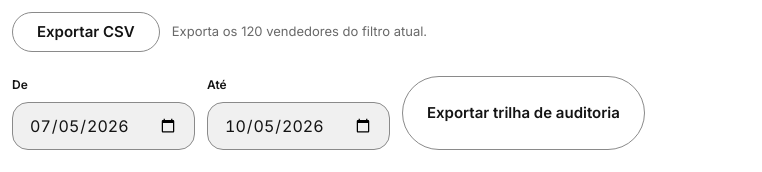
ExportButtons › a failed export: export.error inline, without the period hint
Click the button "Exportar CSV". click: x=86, y=32
box: 12,12 -> 160,52
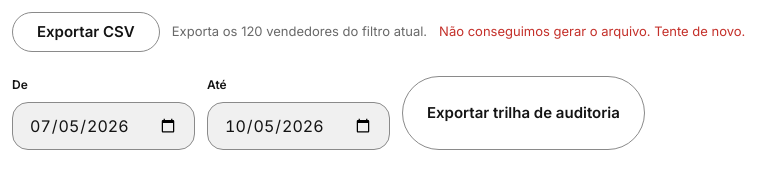
Check: the message reads "Não conseguimos gerar o arquivo. Tente de novo.", box 439,23 -> 745,39
